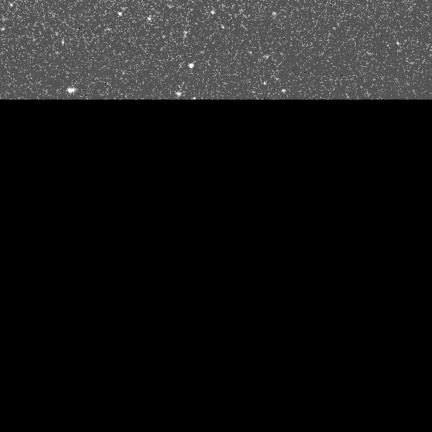blob: (68, 88, 76, 95), (189, 63, 194, 68), (148, 16, 152, 22), (176, 92, 181, 96), (282, 89, 286, 93), (10, 3, 14, 7), (118, 12, 122, 16), (273, 12, 276, 16), (211, 11, 215, 14), (264, 82, 267, 85), (192, 98, 196, 99)
